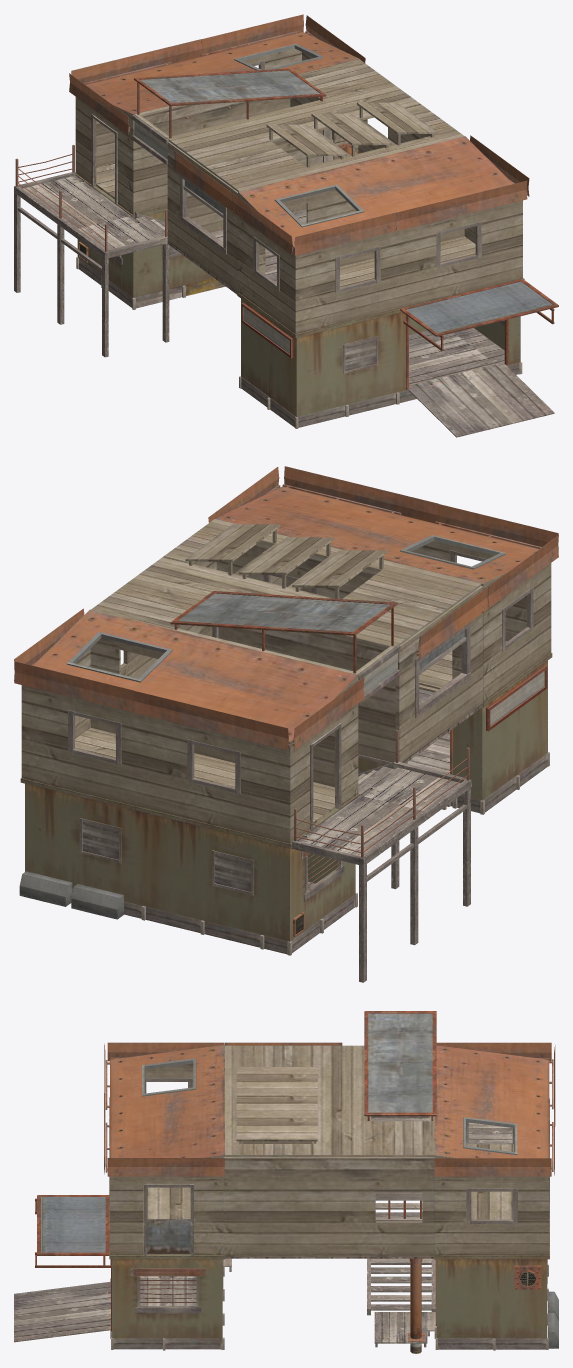
Rendered from bld_mansion.glb.
The picture shows the model from 3 angles, top to bottom: view 1: azimuth 30°, elevation 25°; view 2: azimuth 150°, elevation 25°; view 3: azimuth 270°, elevation 25°; orthographic projection. The views are drawn at different scales.
Visible parts, largest first — view 1: ID_04, ID_03, ID_05, ID_02, ID_06, ID_01; view 2: ID_02, ID_03, ID_01, ID_04, ID_06, ID_05; view 3: ID_03, ID_04, ID_02, ID_05, ID_01, ID_06.
Part boxes in pixels (x1,y1,x2,y2): ID_04: (233,135,529,334); ID_03: (132,59,464,294); ID_05: (237,278,558,437); ID_02: (69,14,365,215); ID_06: (14,142,357,357); ID_01: (76,174,225,309); ID_02: (14,608,364,843); ID_03: (91,519,489,764); ID_01: (20,778,359,955); ID_04: (208,466,558,702); ID_06: (19,730,471,982); ID_05: (358,653,552,814); ID_03: (223,1011,436,1258); ID_04: (104,1042,224,1255); ID_02: (434,1042,555,1255); ID_05: (14,1195,231,1350); ID_01: (427,1205,549,1350); ID_06: (367,1116,558,1353).
Bounding box in the file's own units: 9.68 × 7.5 × 15.57.
6 materials, 6 textured.
